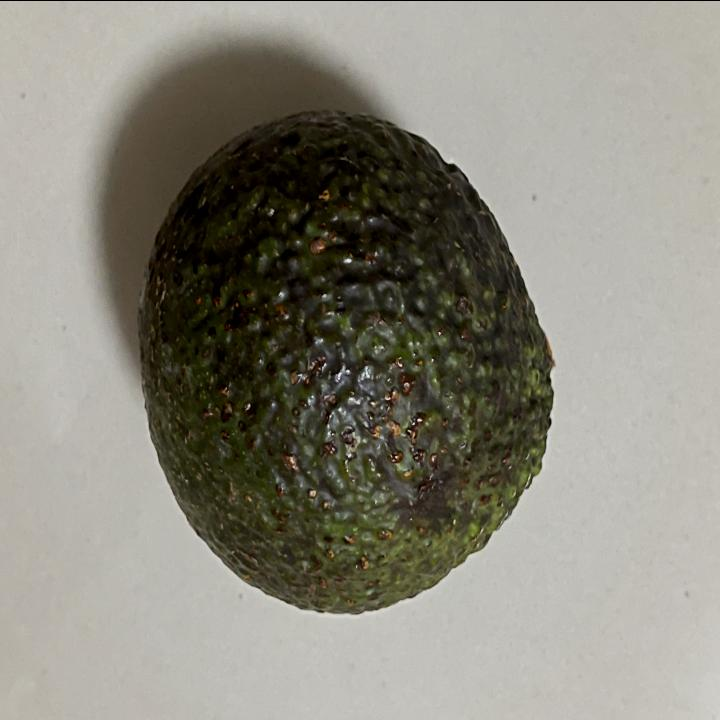Level1: (129, 93, 570, 633)
